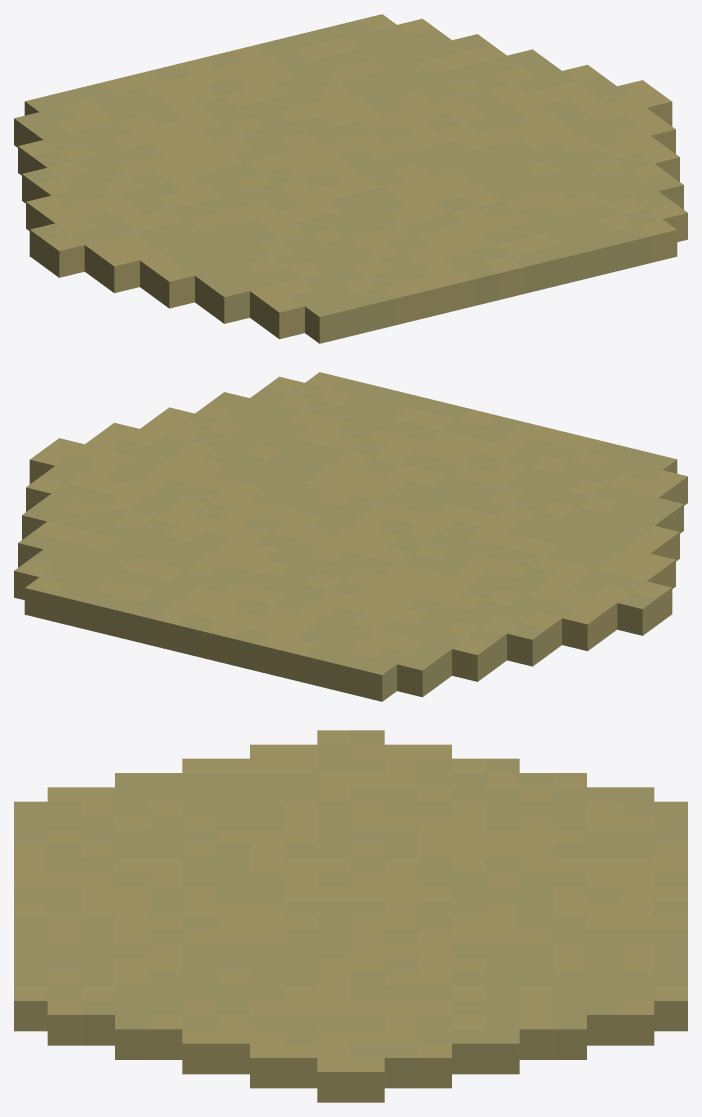
The model's file is overworld-29-sand_1px.obj.
3 views of the same model, one above another, from view 1: azimuth 30°, elevation 25°; view 2: azimuth 150°, elevation 25°; view 3: azimuth 270°, elevation 25° (orthographic). The views are drawn at different scales.
Parts seen in each view (by area): view 1: sand_1px; view 2: sand_1px; view 3: sand_1px.
Boxes of the visible parts, left/top/right/bottom form: sand_1px: left=14, top=14, right=687, bottom=343; sand_1px: left=14, top=372, right=687, bottom=701; sand_1px: left=14, top=730, right=687, bottom=1102.
Bounding box in the file's own units: 2.4 × 0.1 × 2.
Materials: 1 (1 with a texture image).
